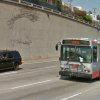Bus: (50, 34, 100, 84)
